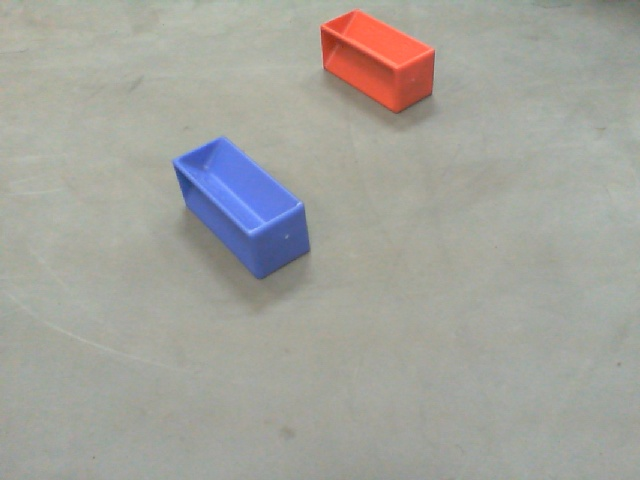BlueSample: (169, 131, 317, 283)
RedSample: (312, 7, 440, 115)
